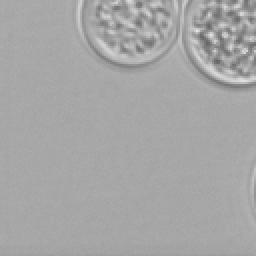picoshell: (74, 0, 180, 66), (178, 0, 254, 86), (250, 158, 254, 220)
